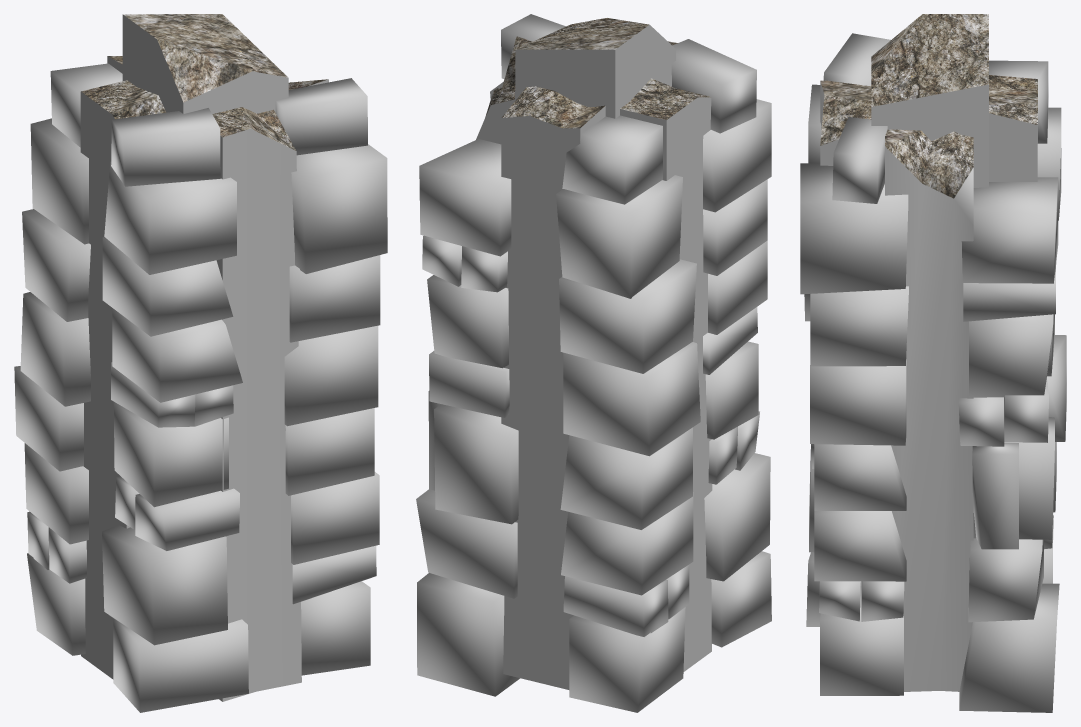
File: Ruins_20B_LOD1.fbx
3 renders of one model, left to right at view 1: azimuth 30°, elevation 25°; view 2: azimuth 150°, elevation 25°; view 3: azimuth 270°, elevation 25°, orthographic. The views are drawn at different scales.
Visible parts, largest first — view 1: polySurface3590; view 2: polySurface3590; view 3: polySurface3590.
Part boxes in pixels (bbox=[...]): polySurface3590: bbox=[14, 14, 387, 712]; polySurface3590: bbox=[416, 14, 771, 712]; polySurface3590: bbox=[800, 14, 1066, 712].
Bounding box in the file's own units: 1.26 × 3.18 × 1.23.
